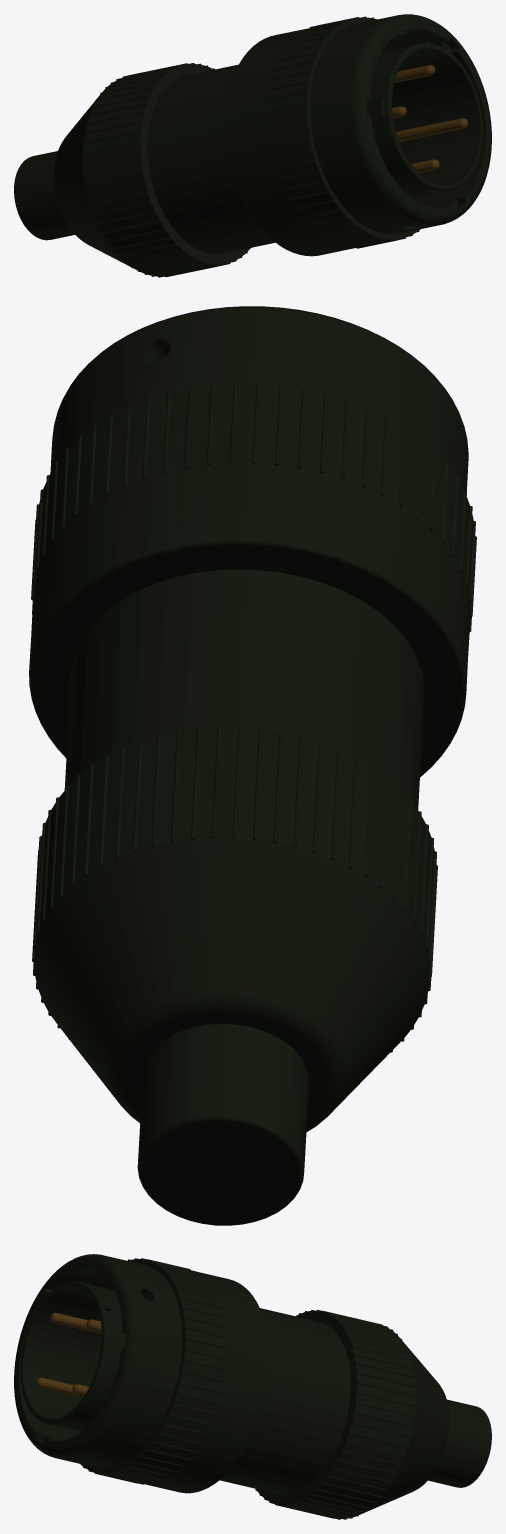
File: Barrett 2090 Docking Station to loudspeaker male port.fbx
3 renders of one model, top to bottom at view 1: azimuth 30°, elevation 25°; view 2: azimuth 150°, elevation 25°; view 3: azimuth 270°, elevation 25°, orthographic. The views are drawn at different scales.
Visible parts, largest first — view 1: Shape_IndexedFaceSet.004, Shape_IndexedFaceSet, Shape_IndexedFaceSet.003, Shape_IndexedFaceSet.005, Shape_IndexedFaceSet.006; view 2: Shape_IndexedFaceSet, Shape_IndexedFaceSet.004; view 3: Shape_IndexedFaceSet.004, Shape_IndexedFaceSet, Shape_IndexedFaceSet.003, Shape_IndexedFaceSet.001, Shape_IndexedFaceSet.002.
Boxes of the visible parts, left/top/right/bottom form: Shape_IndexedFaceSet.004: left=225, top=14, right=491, bottom=256; Shape_IndexedFaceSet: left=14, top=63, right=274, bottom=277; Shape_IndexedFaceSet.003: left=366, top=41, right=483, bottom=197; Shape_IndexedFaceSet.005: left=396, top=118, right=468, bottom=141; Shape_IndexedFaceSet.006: left=394, top=65, right=435, bottom=82; Shape_IndexedFaceSet: left=32, top=569, right=437, bottom=1225; Shape_IndexedFaceSet.004: left=29, top=306, right=476, bottom=777; Shape_IndexedFaceSet.004: left=14, top=1254, right=269, bottom=1493; Shape_IndexedFaceSet: left=220, top=1308, right=491, bottom=1519; Shape_IndexedFaceSet.003: left=20, top=1281, right=125, bottom=1431; Shape_IndexedFaceSet.001: left=50, top=1313, right=101, bottom=1333; Shape_IndexedFaceSet.002: left=36, top=1377, right=83, bottom=1397.
Bounding box in the file's own units: 3.21 × 3.14 × 4.58.
